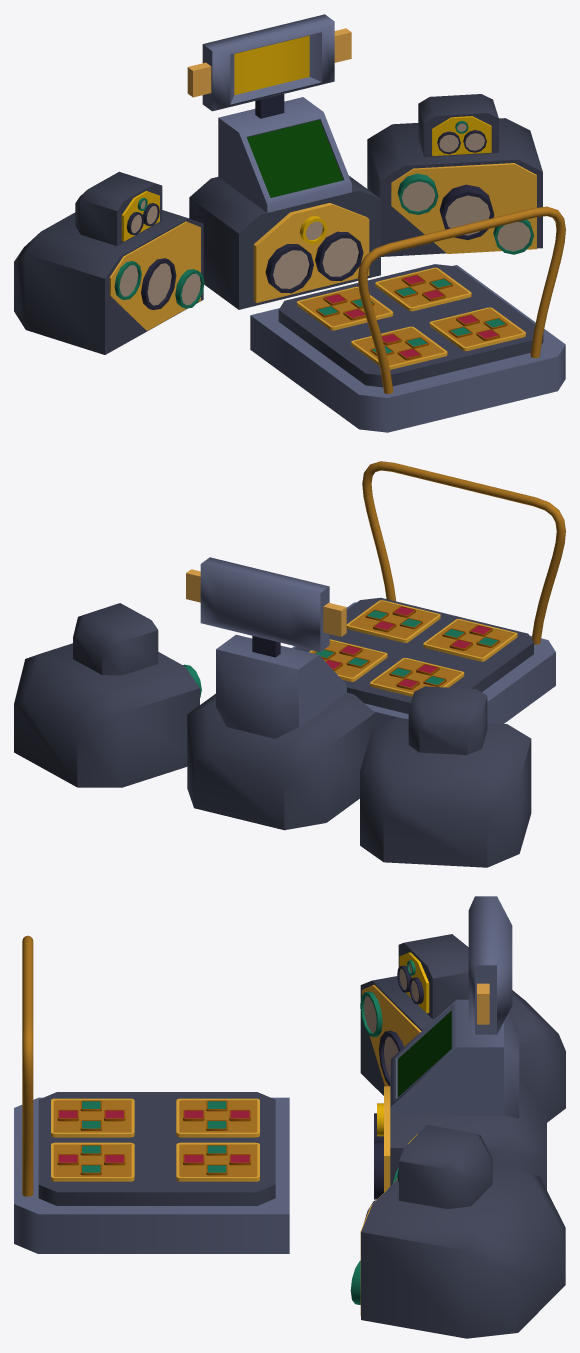
The model's file is FunMediumLvl2DanceMachine.fbx.
The picture shows the model from 3 angles, top to bottom: view 1: azimuth 30°, elevation 25°; view 2: azimuth 150°, elevation 25°; view 3: azimuth 270°, elevation 25°; orthographic projection. The views are drawn at different scales.
Visible parts, largest first — view 1: DanceMachine.001; view 2: DanceMachine.001; view 3: DanceMachine.001.
Part boxes in pixels (x1,y1,x2,y2): DanceMachine.001: [14, 14, 565, 432]; DanceMachine.001: [14, 461, 565, 867]; DanceMachine.001: [14, 896, 565, 1338].
Size of the model in its own units: 188 by 82.01 by 155.
